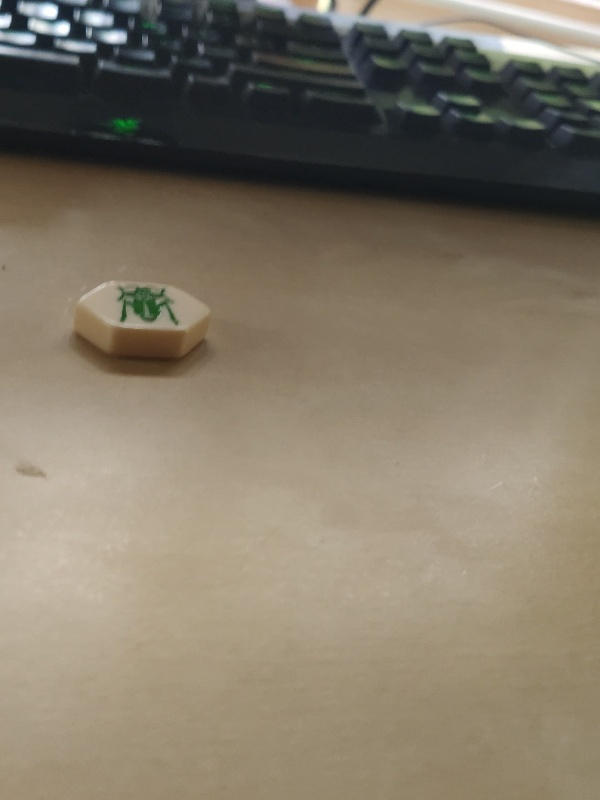white_grasshopper: (71, 280, 219, 361)
